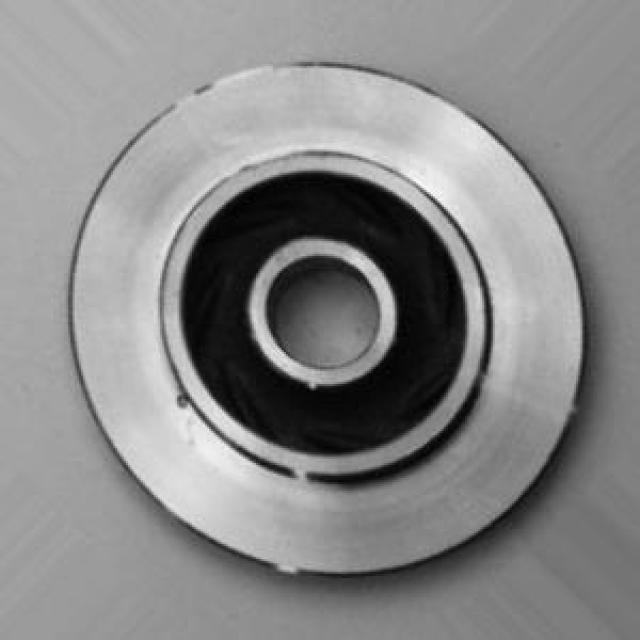Defect: (168, 389, 201, 423)
